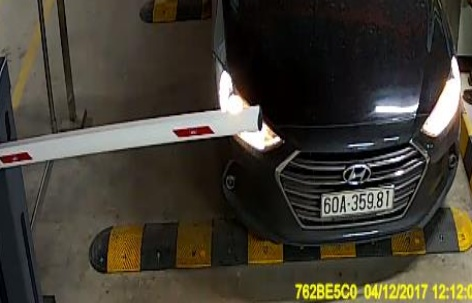plate: (319, 185, 395, 225)
